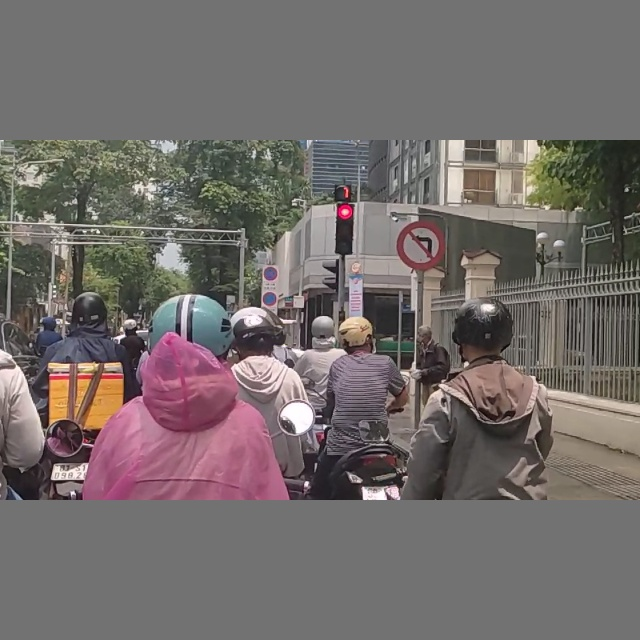P.123a: (396, 219, 445, 271)
P.130: (263, 266, 278, 281)
P.131a: (262, 291, 277, 305)
